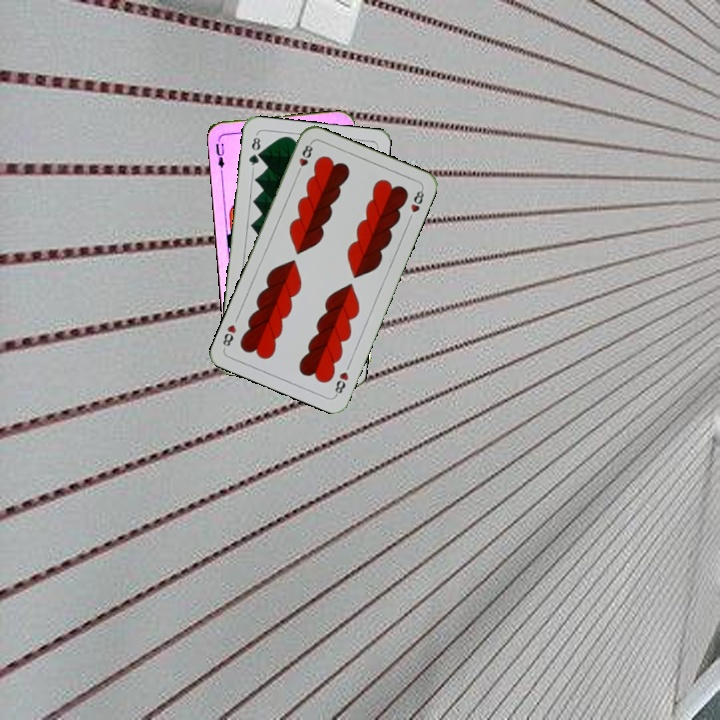EU: (211, 135, 227, 171)
G8: (245, 131, 263, 172)
H8: (293, 139, 315, 178), (331, 367, 351, 398)
